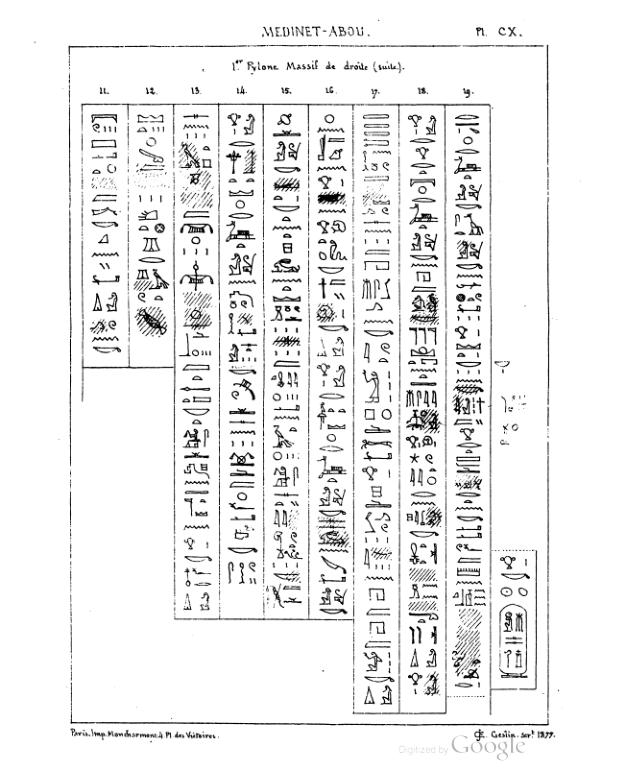circle: (497, 602, 532, 680)
